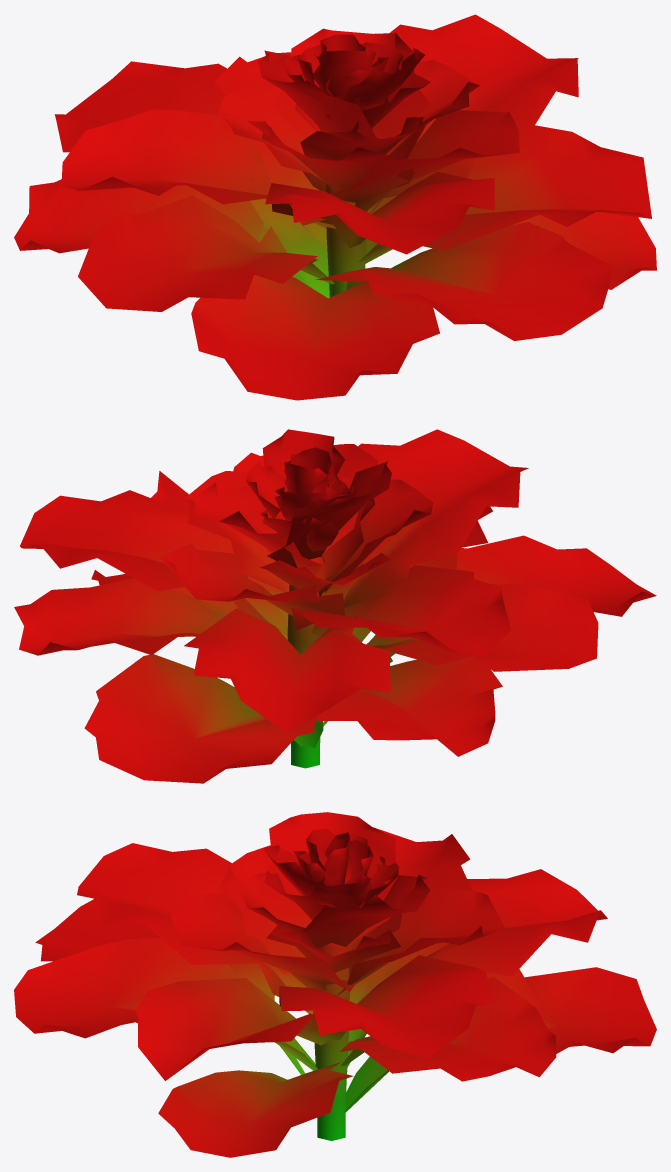
File: Purple Ornamental Kale_LOD2_Var6_ugdieawja.fbx
The picture shows the model from 3 angles, top to bottom: view 1: azimuth 30°, elevation 25°; view 2: azimuth 150°, elevation 25°; view 3: azimuth 270°, elevation 25°; orthographic projection. The views are drawn at different scales.
Parts seen in each view (by area): view 1: _e91b_Var6_LOD2; view 2: _e91b_Var6_LOD2; view 3: _e91b_Var6_LOD2.
Boxes of the visible parts, x1,y1,x2,y2 form: _e91b_Var6_LOD2: (14,14,656,400); _e91b_Var6_LOD2: (14,429,656,783); _e91b_Var6_LOD2: (14,812,656,1157).
Size of the model in its own units: 40.08 by 23.3 by 45.66.
